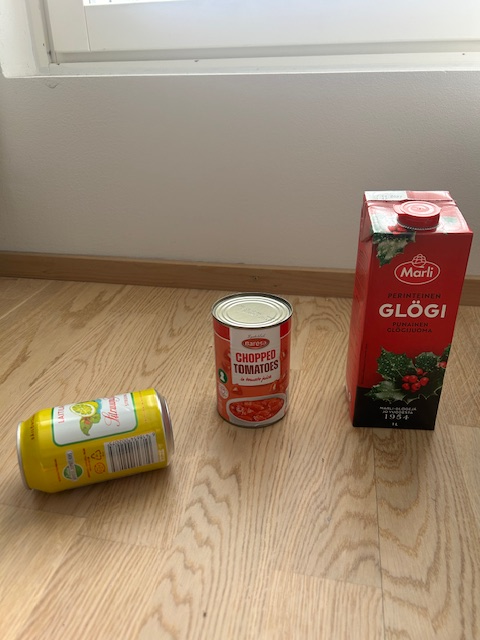Dryckeskartong: (344, 190, 474, 431)
Konservburk: (210, 292, 294, 429)
Pantburk: (15, 387, 175, 494)
